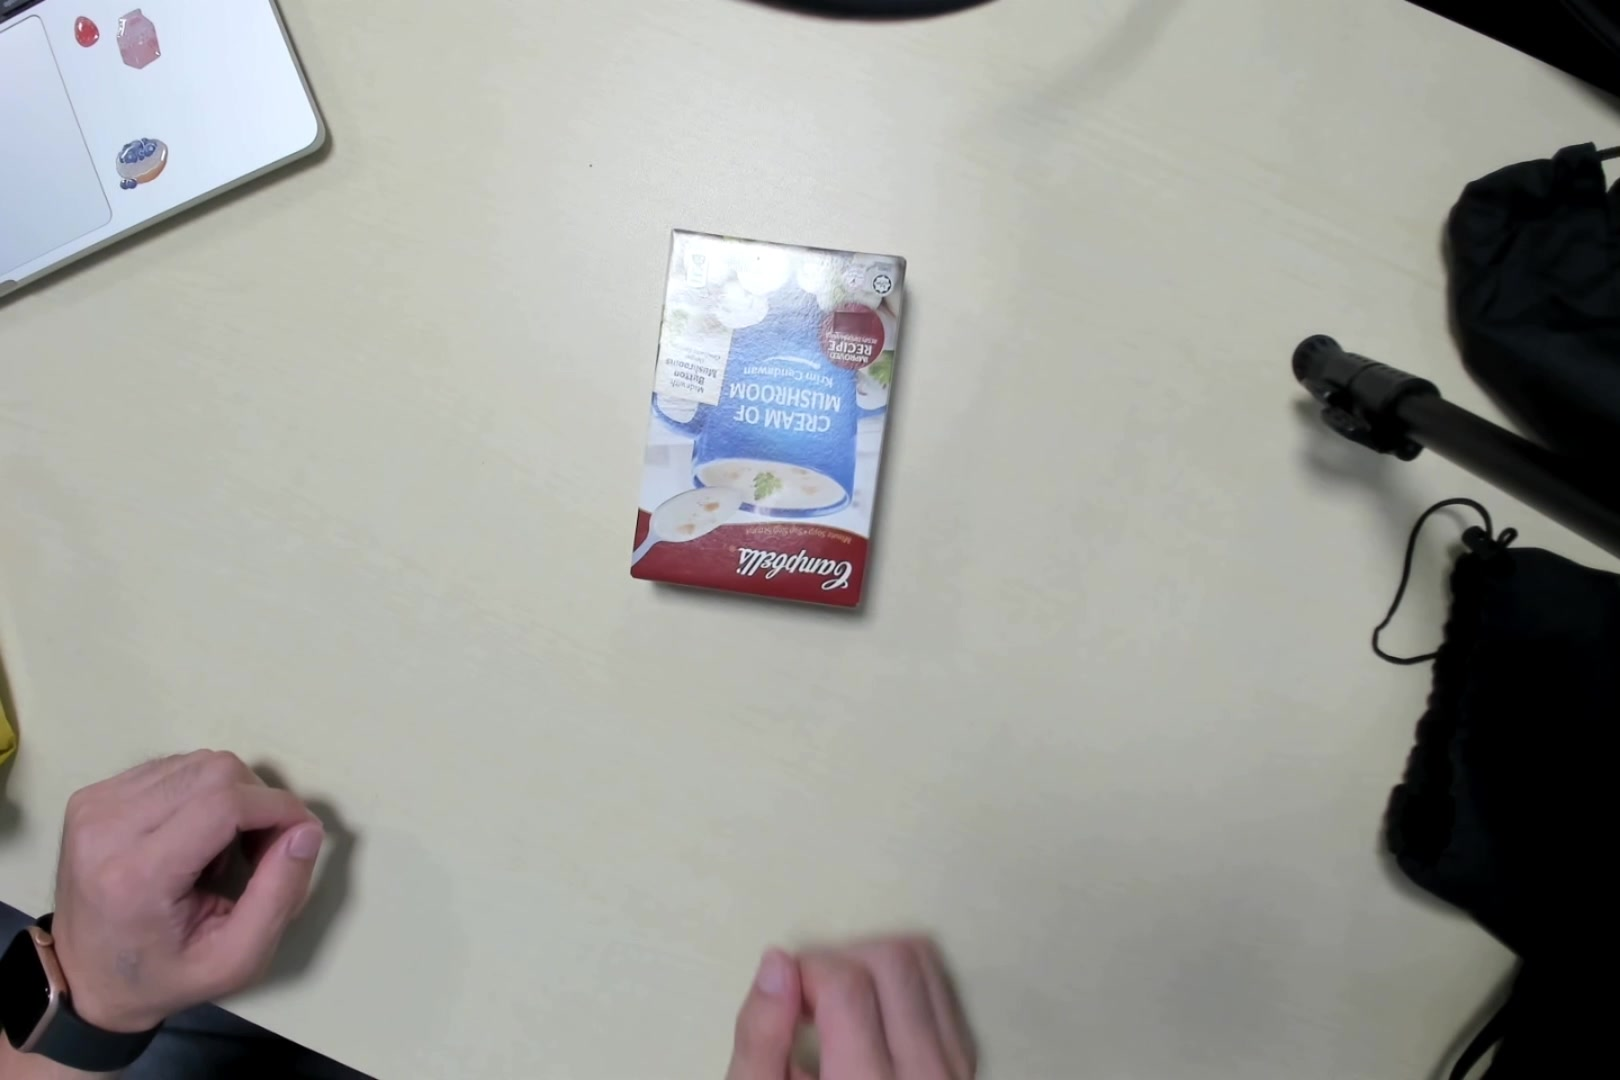InstantMeals_0-99g_Halal_NonHealthy: (633, 224, 905, 617)
